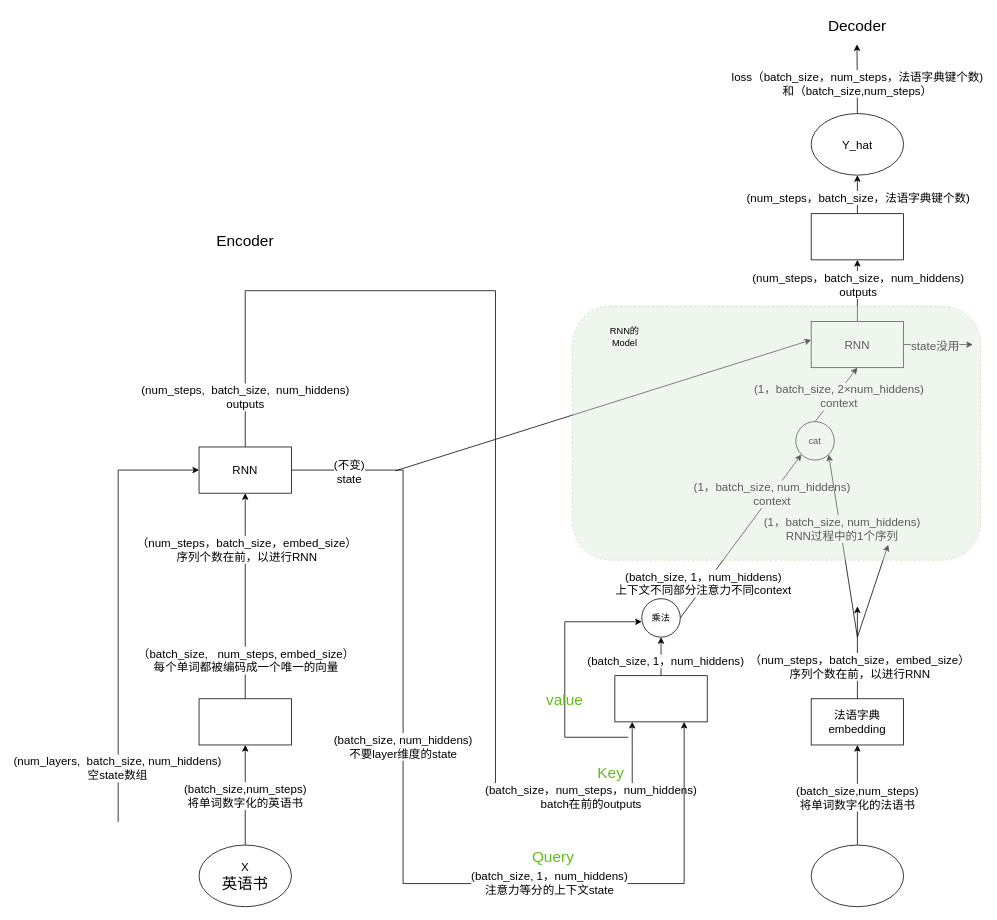
The diagram is 997 pixels wide and 920 high, and some of its shapes have lost their labels. Here are the shapes that lost their labels. From the top down, the centre of each, then its label:
At (857,236): "Linear".
At (660,698): "Attention".
At (244,721): "英语字典embedding".
At (857,875): "Y 法语书".
